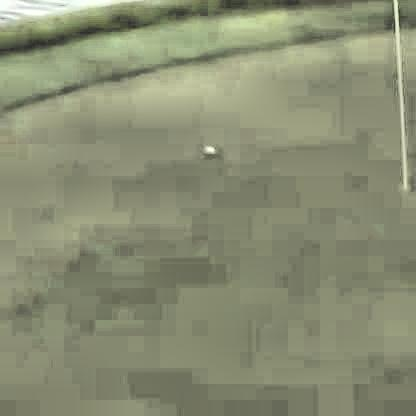golfball: (201, 143, 212, 154)
